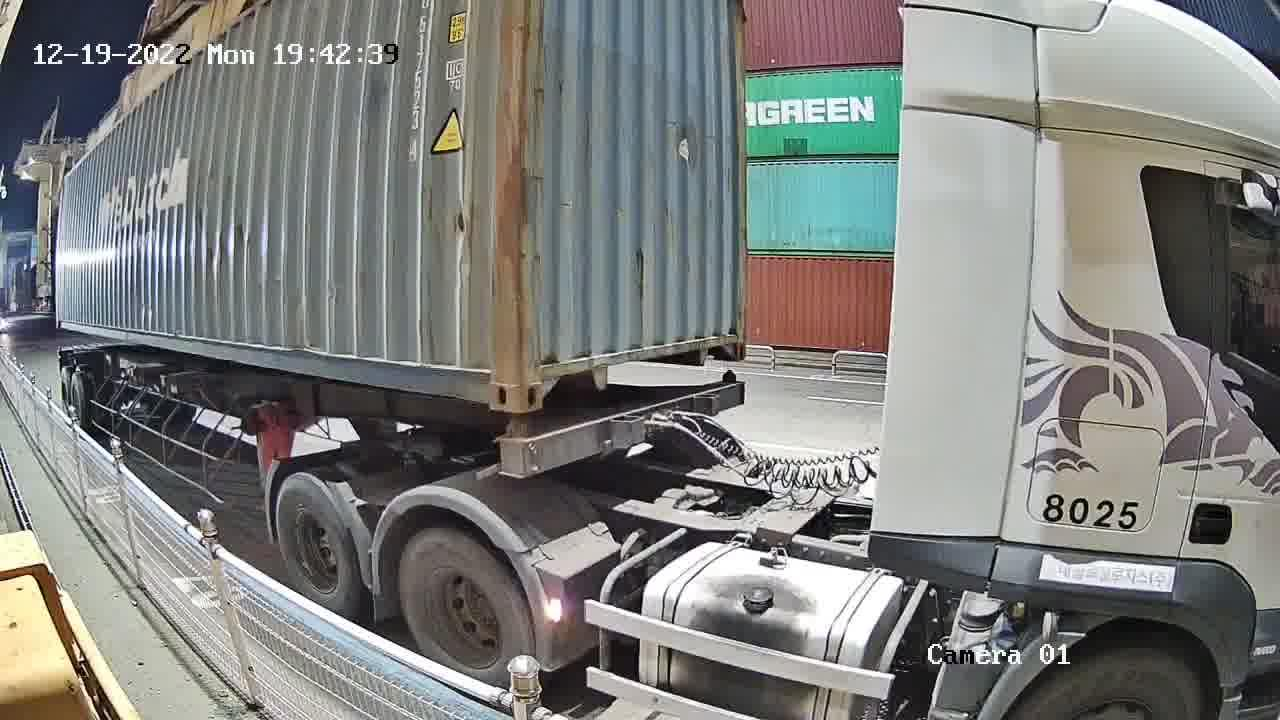Chassis: (500, 380, 745, 480)
Cone: (496, 419, 531, 476), (718, 371, 737, 384)
Hole_L: (519, 341, 575, 411)
Hole_R: (461, 340, 517, 411), (708, 313, 746, 363)
Tire: (399, 529, 531, 684), (277, 476, 355, 611)
